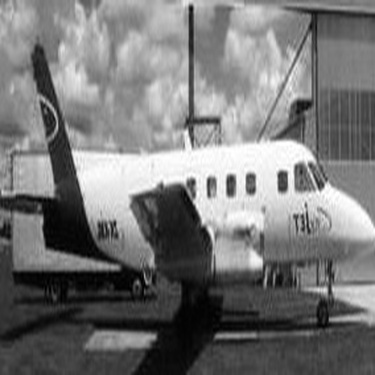airplane: (5, 37, 370, 306)
